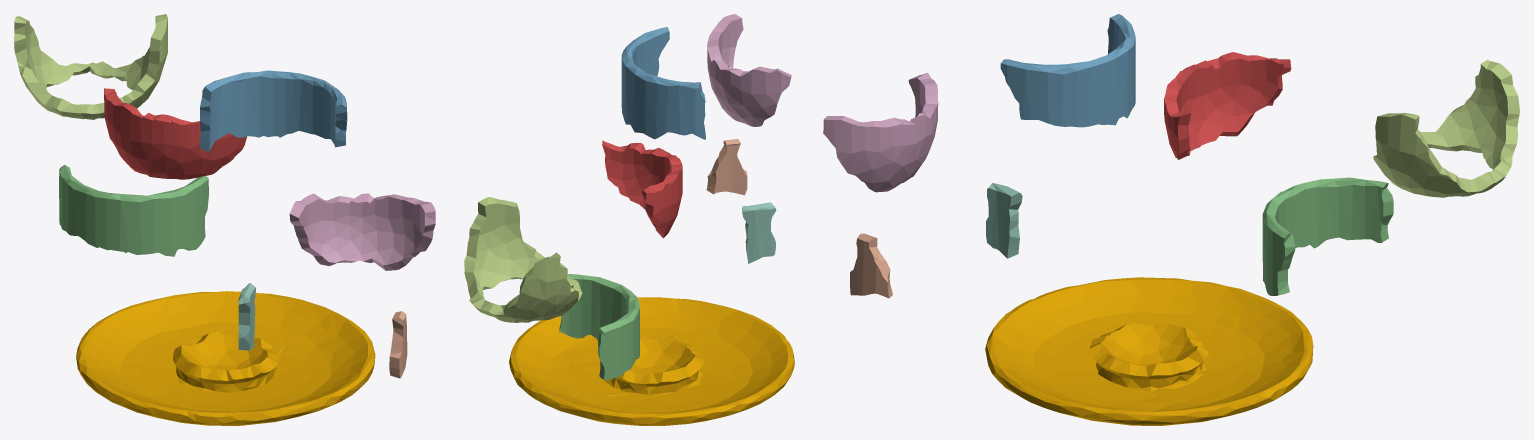
Rendered from fractured_36_8pcs_transformed.glb.
3 views of the same model, side by side, from view 1: azimuth 30°, elevation 25°; view 2: azimuth 150°, elevation 25°; view 3: azimuth 270°, elevation 25° (orthographic). The views are drawn at different scales.
Visible parts, largest first — view 1: piece_0.obj, piece_3.obj, piece_2.obj, piece_6.obj, piece_1.obj, piece_5.obj, piece_4.obj, piece_7.obj; view 2: piece_0.obj, piece_5.obj, piece_2.obj, piece_3.obj, piece_6.obj, piece_1.obj, piece_4.obj, piece_7.obj; view 3: piece_0.obj, piece_5.obj, piece_3.obj, piece_2.obj, piece_1.obj, piece_6.obj, piece_4.obj, piece_7.obj.
Part boxes in pixels (<box>): piece_0.obj: <box>76,291,375,425</box>; piece_3.obj: <box>59,165,208,256</box>; piece_2.obj: <box>199,70,347,152</box>; piece_6.obj: <box>289,193,435,270</box>; piece_1.obj: <box>104,88,246,179</box>; piece_5.obj: <box>14,14,167,119</box>; piece_4.obj: <box>238,283,255,350</box>; piece_7.obj: <box>389,311,407,378</box>; piece_0.obj: <box>509,297,794,425</box>; piece_5.obj: <box>464,197,582,322</box>; piece_2.obj: <box>621,27,705,139</box>; piece_3.obj: <box>559,274,639,379</box>; piece_6.obj: <box>707,14,791,126</box>; piece_1.obj: <box>602,140,682,238</box>; piece_4.obj: <box>742,202,776,263</box>; piece_7.obj: <box>706,139,747,195</box>; piece_0.obj: <box>985,277,1313,425</box>; piece_5.obj: <box>1373,59,1519,197</box>; piece_3.obj: <box>1262,177,1393,295</box>; piece_2.obj: <box>1000,14,1135,127</box>; piece_1.obj: <box>1164,52,1291,159</box>; piece_6.obj: <box>823,73,938,192</box>; piece_4.obj: <box>986,183,1022,258</box>; piece_7.obj: <box>850,233,892,298</box>.
Size of the model in its own units: 1 by 1.17 by 2.12.
